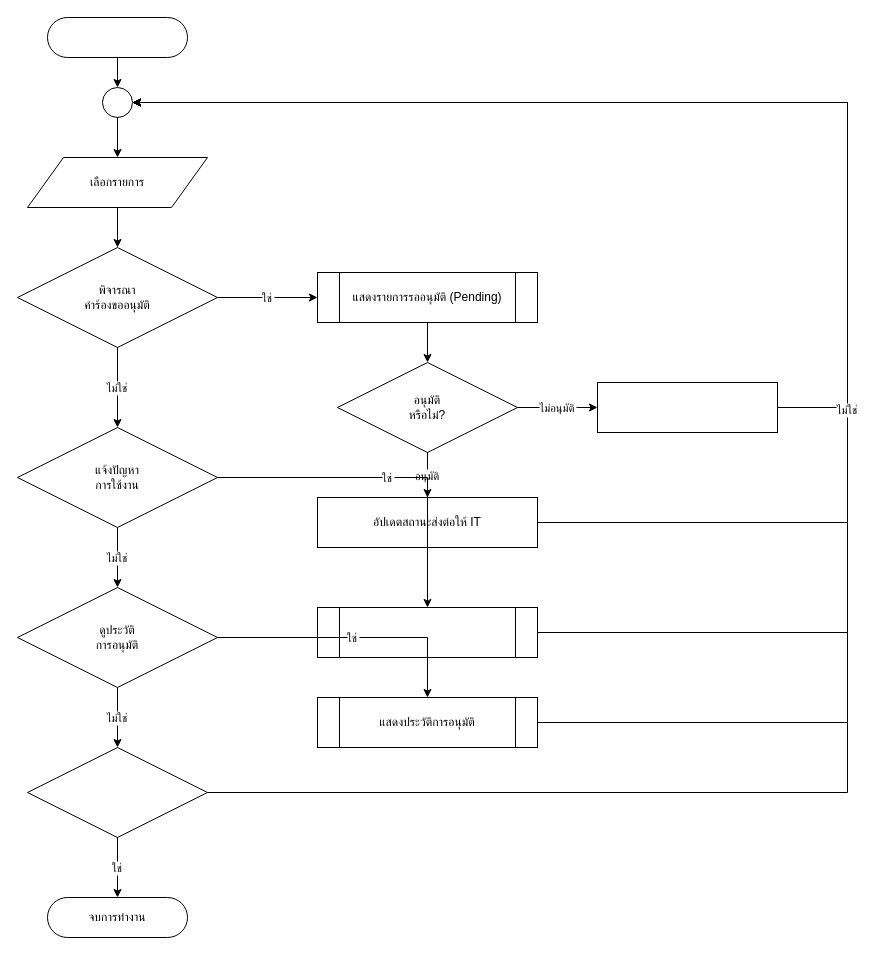
Image size: 876x955. Some labels were removed from this diagram. The box of each missing label's shape, as (x1, y1, x2, y2) in pixels:
บันทึกเหตุผลและตีกลับ: (596, 382, 778, 432)
ออกจากระบบ: (26, 746, 208, 838)
เริ่มต้น: (46, 16, 188, 58)
แสดงข้อมูลการแจ้งปัญหา: (316, 606, 538, 658)
